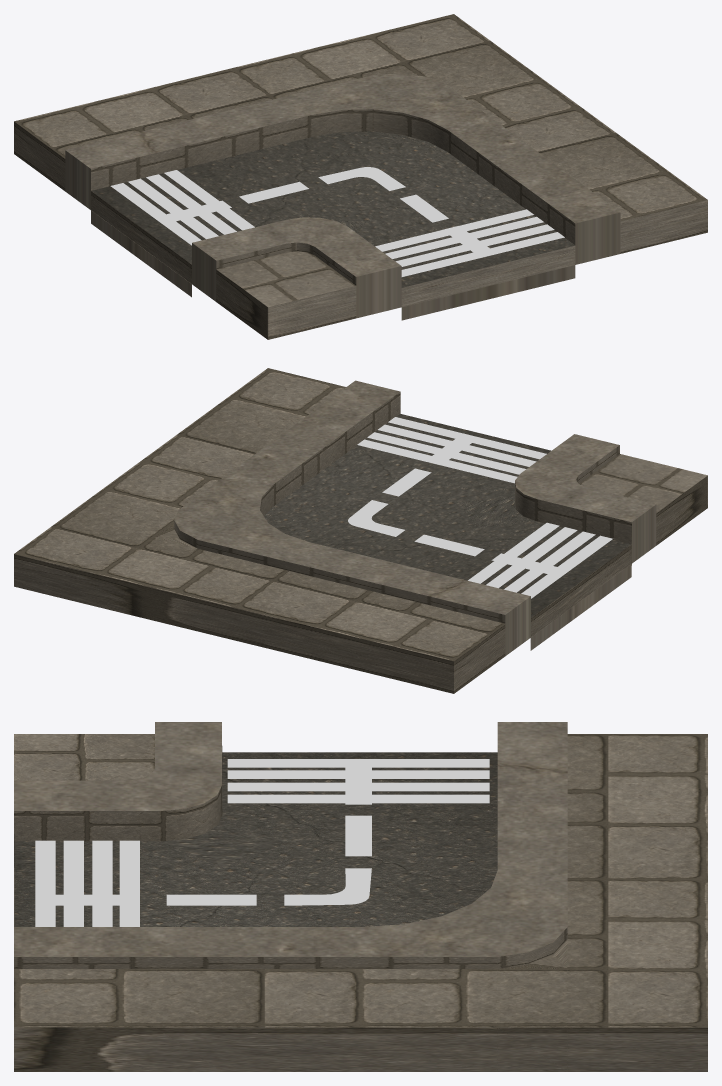
File: Road_Corner.fbx
The picture shows the model from 3 angles, top to bottom: view 1: azimuth 30°, elevation 25°; view 2: azimuth 150°, elevation 25°; view 3: azimuth 270°, elevation 25°; orthographic projection. The views are drawn at different scales.
Parts seen in each view (by area): view 1: Cube, Plane.005, Plane, Plane.002; view 2: Cube, Plane.005, Plane, Plane.002; view 3: Cube, Plane, Plane.005, Plane.002.
Part boxes in pixels (x1,y1,x2,y2): Cube: [14, 14, 707, 339]; Plane.005: [375, 209, 564, 276]; Plane: [110, 170, 254, 245]; Plane.002: [162, 167, 491, 253]; Cube: [14, 368, 707, 693]; Plane.005: [357, 417, 546, 483]; Plane: [468, 522, 612, 598]; Plane.002: [348, 437, 561, 574]; Cube: [14, 722, 707, 1071]; Plane: [227, 759, 489, 803]; Plane.005: [35, 840, 139, 926]; Plane.002: [50, 764, 371, 905].
Bounding box in the file's own units: 375 × 44.68 × 375.
